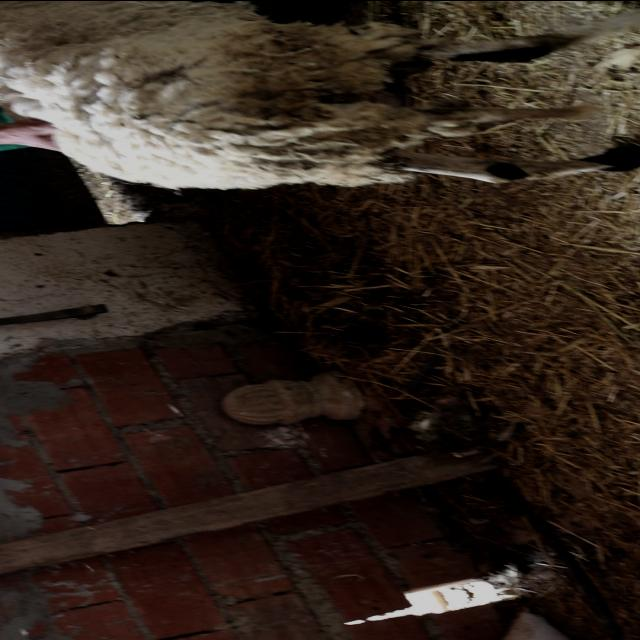Score_2: (0, 0, 639, 189)
